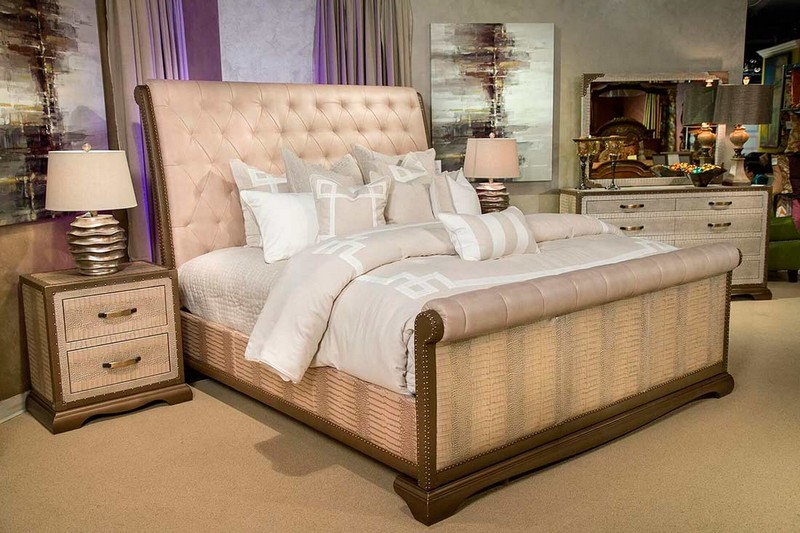bed: (130, 75, 741, 515)
lamp: (45, 142, 141, 277), (711, 80, 776, 190), (463, 131, 521, 213)
stool: (17, 258, 191, 425)
